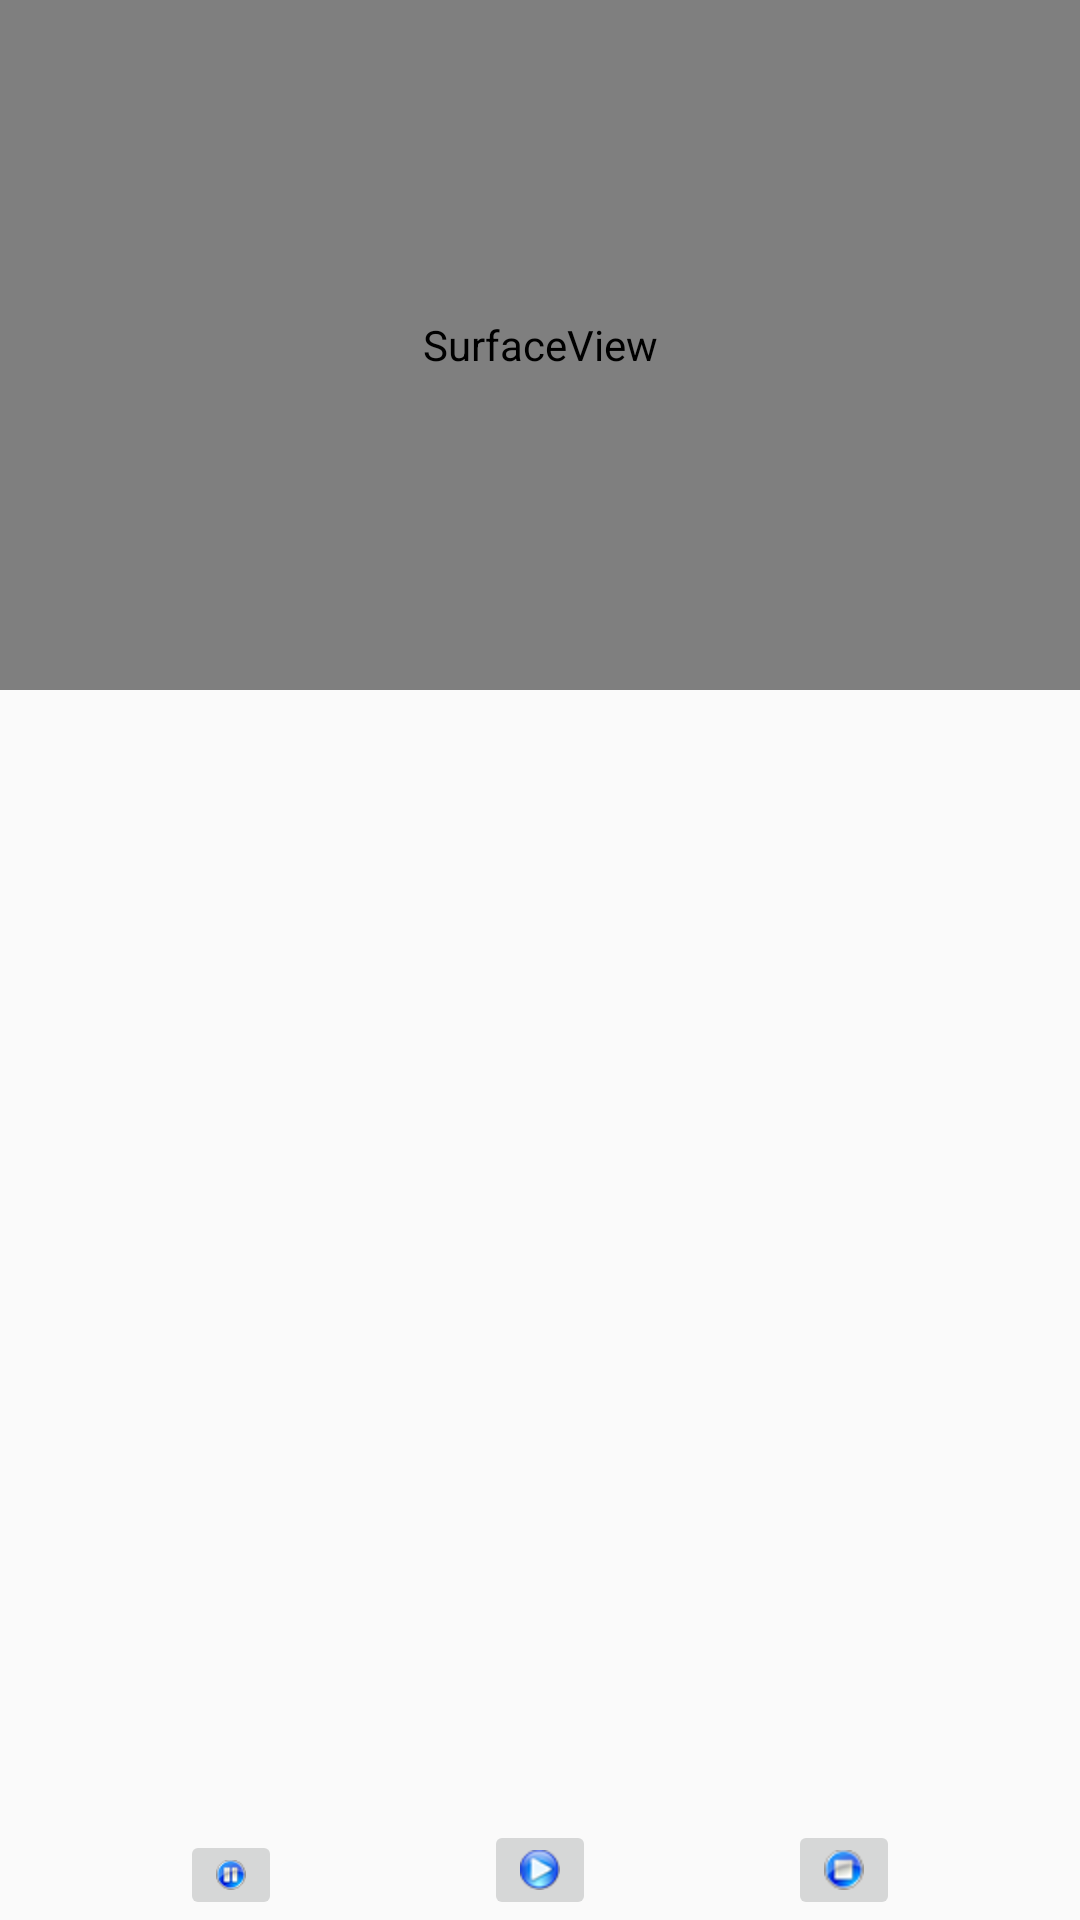

Icons on this 1080 x 1920 Android screen, each with its box as (x1, y1, x2, y2):
pause: (192, 1848, 270, 1902)
play: (496, 1838, 584, 1902)
stop: (800, 1838, 888, 1902)
